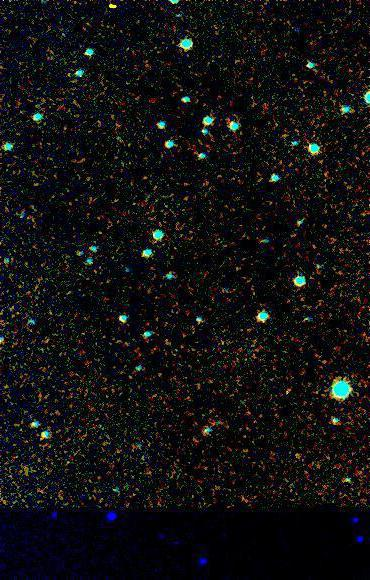star: (95, 0, 125, 21)
